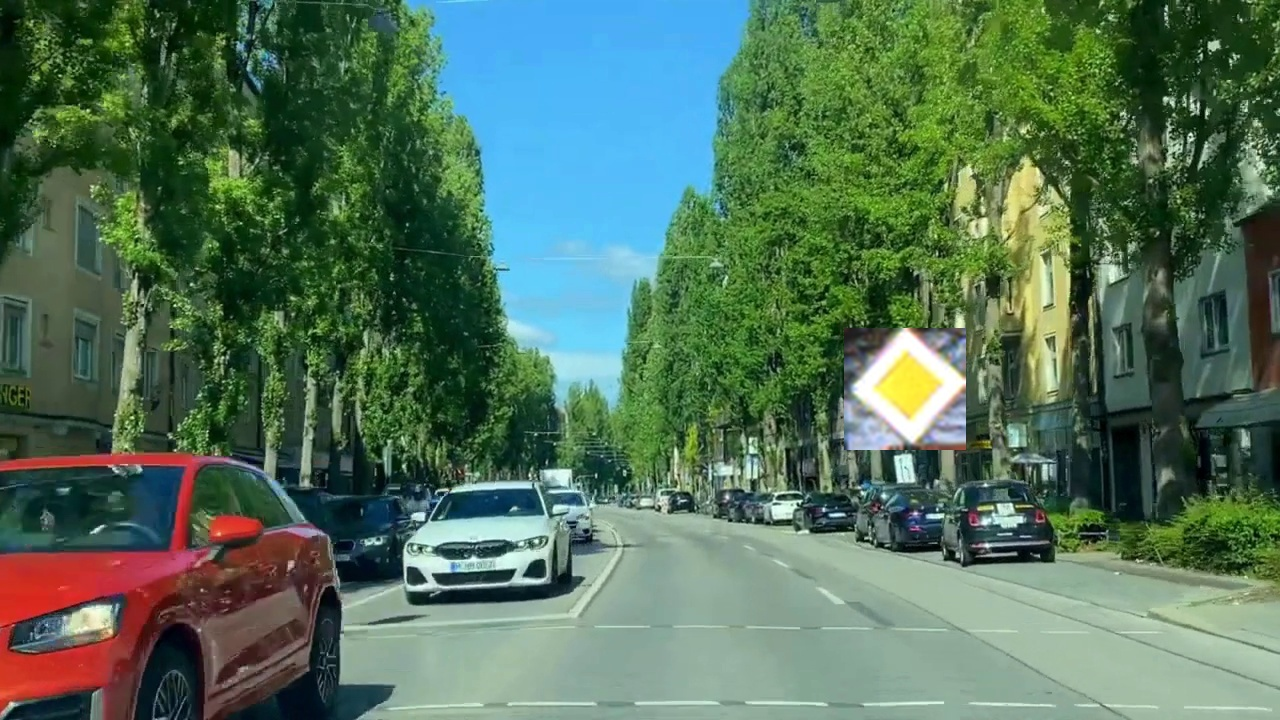Priority road: (844, 328, 966, 450)
